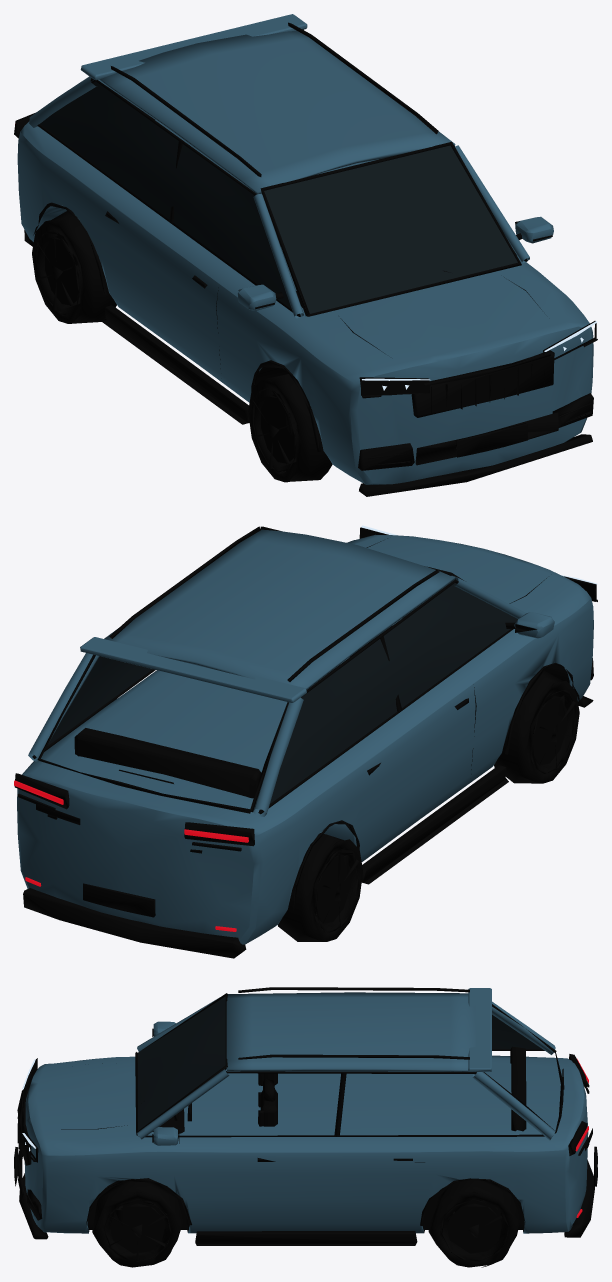
File: suv-far.glb
The picture shows the model from 3 angles, top to bottom: view 1: azimuth 30°, elevation 25°; view 2: azimuth 150°, elevation 25°; view 3: azimuth 270°, elevation 25°; orthographic projection. The views are drawn at different scales.
Visible parts, largest first — view 1: chassis.001__Automotive clearcoat, chassis.001__Solar glass, chassis.001__Vehicle detail atlas, wheel_RL.001__Vehicle detail atlas, wheel_FL.001__Vehicle detail atlas; view 2: chassis.001__Automotive clearcoat, chassis.001__Vehicle detail atlas, chassis.001__Solar glass, wheel_RL.001__Vehicle detail atlas, wheel_FL.001__Vehicle detail atlas, chassis.001__Red LED optics; view 3: chassis.001__Automotive clearcoat, chassis.001__Vehicle detail atlas, chassis.001__Solar glass, wheel_RR.001__Vehicle detail atlas, wheel_FR.001__Vehicle detail atlas.
Boxes of the visible parts, <box> form: chassis.001__Automotive clearcoat: <box>17,14,593,484</box>; chassis.001__Solar glass: <box>40,82,517,313</box>; chassis.001__Vehicle detail atlas: <box>14,22,596,496</box>; wheel_RL.001__Vehicle detail atlas: <box>32,211,116,323</box>; wheel_FL.001__Vehicle detail atlas: <box>248,374,332,482</box>; chassis.001__Automotive clearcoat: <box>17,529,593,944</box>; chassis.001__Vehicle detail atlas: <box>14,526,596,958</box>; chassis.001__Solar glass: <box>47,583,517,803</box>; wheel_RL.001__Vehicle detail atlas: <box>278,833,362,941</box>; wheel_FL.001__Vehicle detail atlas: <box>494,670,580,783</box>; chassis.001__Red LED optics: <box>14,780,248,931</box>; chassis.001__Automotive clearcoat: <box>24,988,588,1233</box>; chassis.001__Vehicle detail atlas: <box>14,987,597,1245</box>; chassis.001__Solar glass: <box>138,996,542,1130</box>; wheel_RR.001__Vehicle detail atlas: <box>428,1179,519,1267</box>; wheel_FR.001__Vehicle detail atlas: <box>92,1181,183,1267</box>.
Size of the model in its own units: 2.17 by 1.73 by 4.63.
8 materials, 6 textured.
